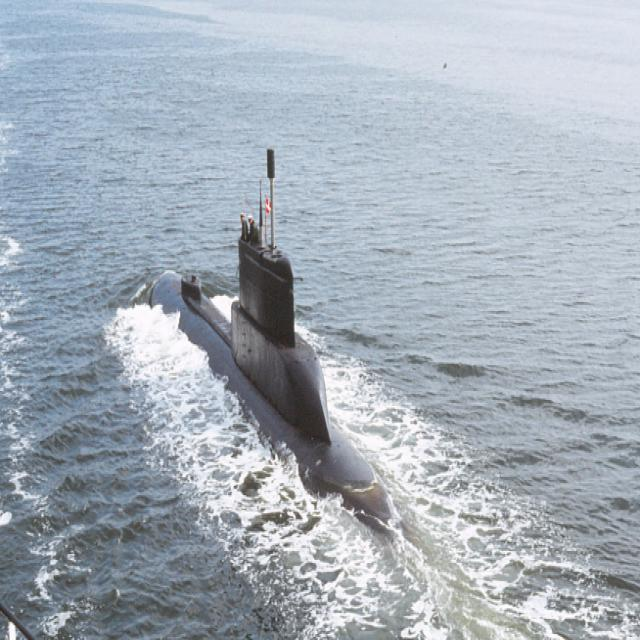submarine: (141, 241, 404, 544)
